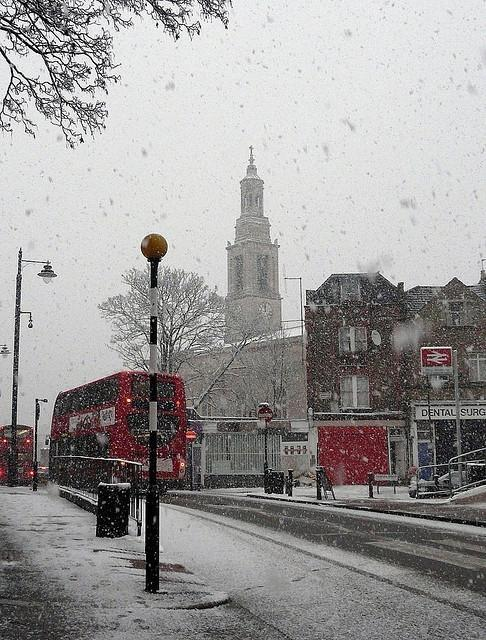bus: (45, 362, 194, 490), (2, 424, 34, 486)
car: (438, 471, 466, 482)
